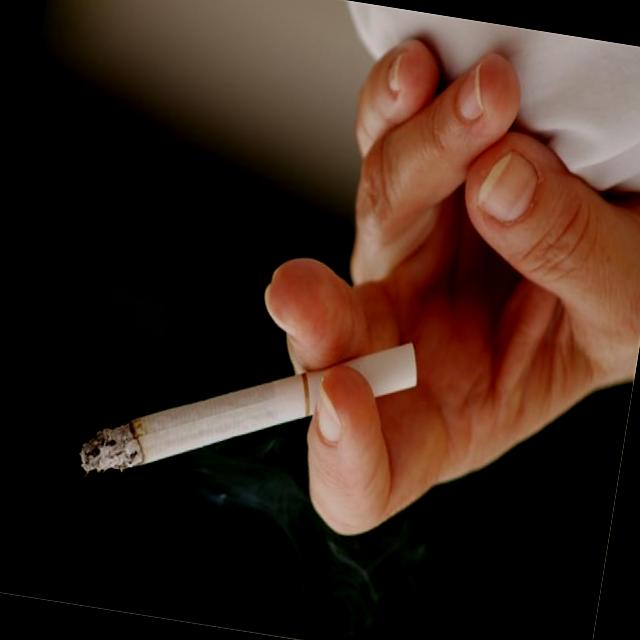cigarette: (75, 284, 434, 528)
